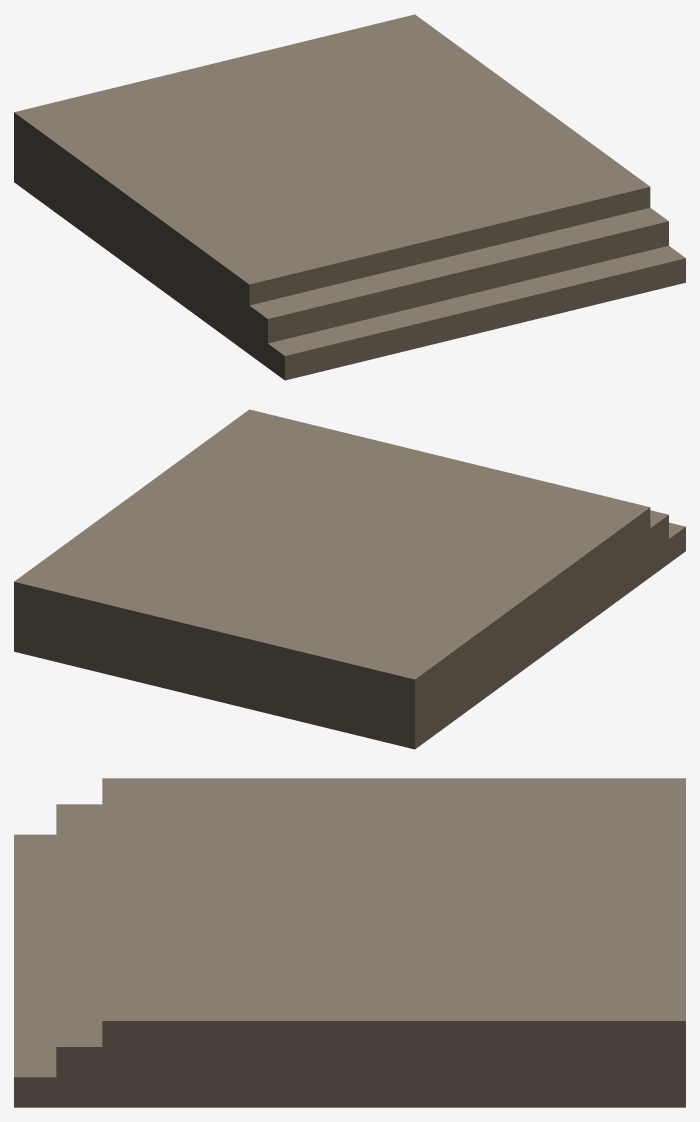
File: Stairs_A1.fbx
The picture shows the model from 3 angles, top to bottom: view 1: azimuth 30°, elevation 25°; view 2: azimuth 150°, elevation 25°; view 3: azimuth 270°, elevation 25°; orthographic projection. The views are drawn at different scales.
Parts seen in each view (by area): view 1: Stairs_A1; view 2: Stairs_A1; view 3: Stairs_A1.
Part boxes in pixels (x1,y1,x2,y2): Stairs_A1: [14, 14, 685, 380]; Stairs_A1: [14, 409, 685, 749]; Stairs_A1: [14, 778, 685, 1107].
Bounding box in the file's own units: 600 × 100 × 702.
Materials: 1 (1 with a texture image).
